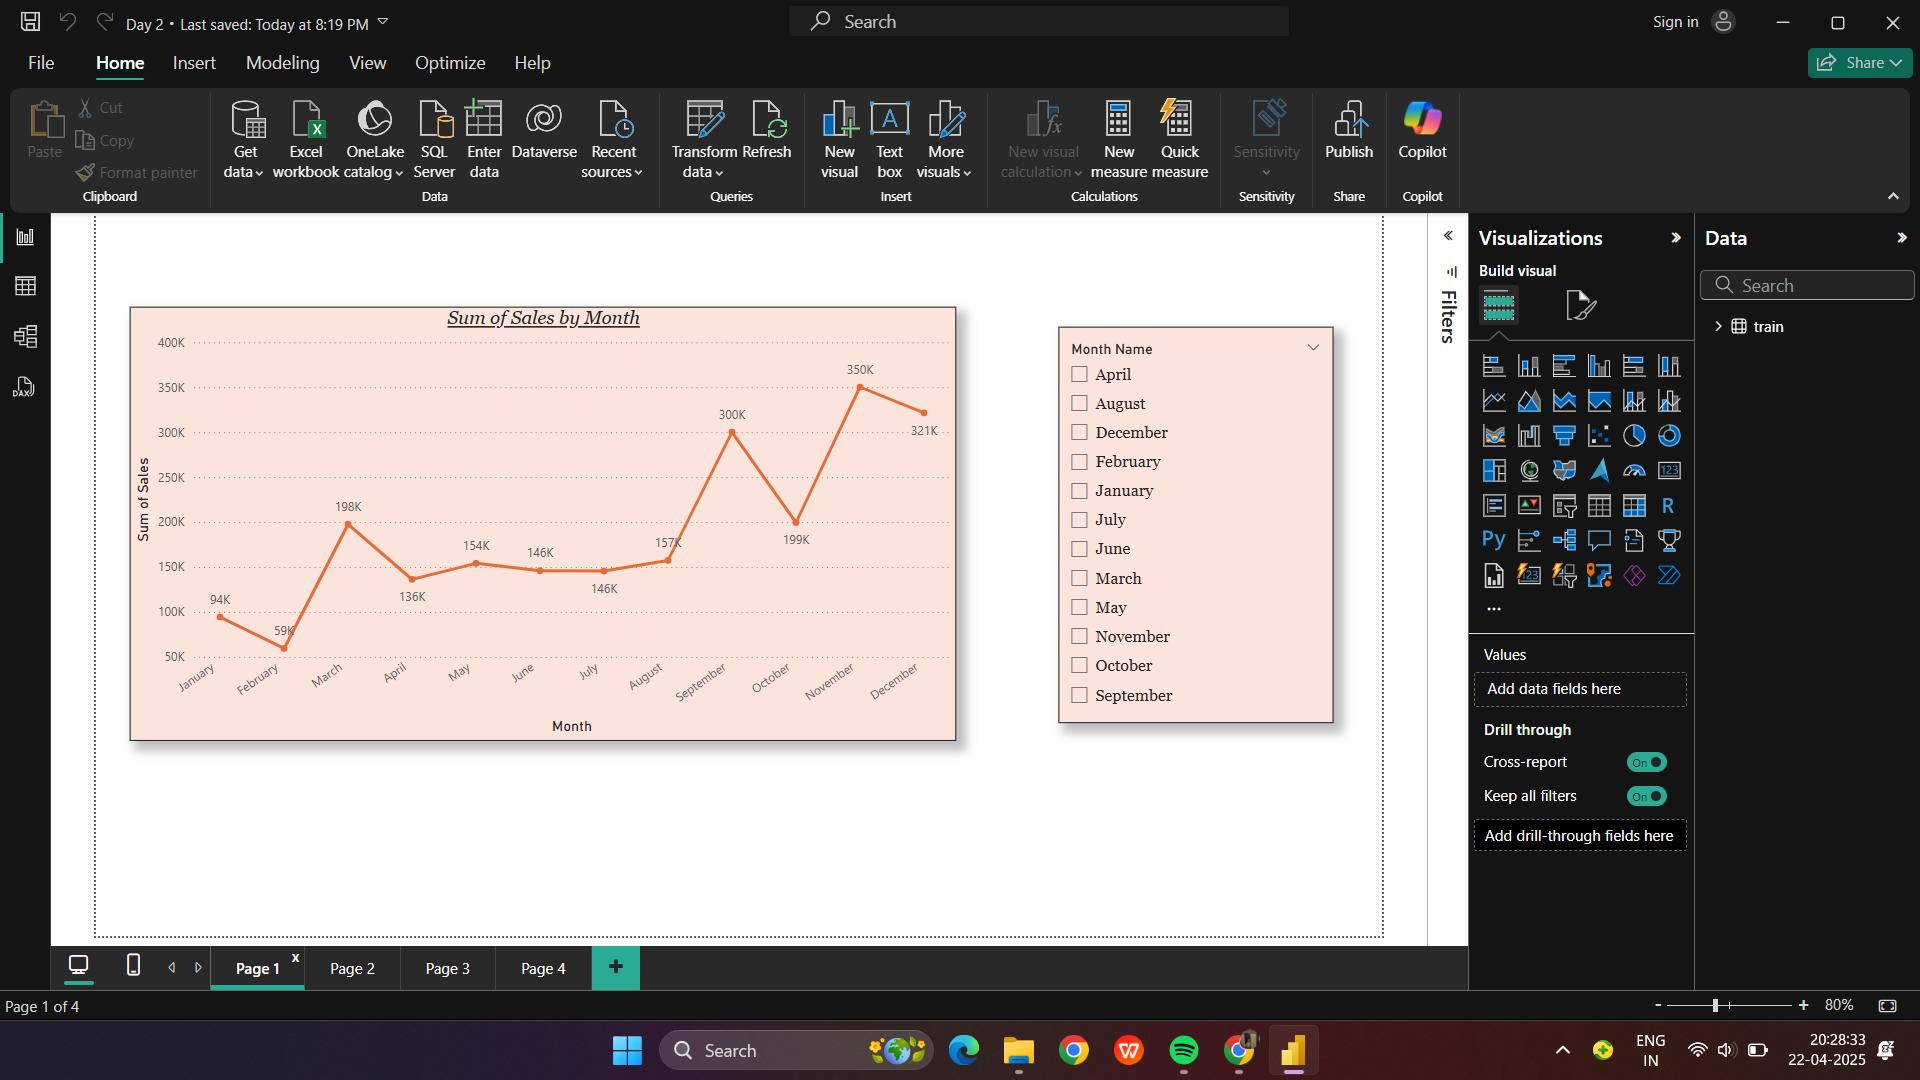

Layout of this report page (visuals, bound fields, positions):
{"tool":"powerbi","page":{"name":"Page 1","canvas":[1280,720],"ordinal":0},"visuals":[{"type":"lineChart","fields":{"Category":["train.Order Date.Variation.Date Hierarchy.Month"],"Y":["Sum(train.Sales)"]},"box":[33.6,93.3,822.3,431.7],"z":0},{"type":"slicer","fields":{"Values":["train.Month Name"]},"box":[957.8,113.2,273.7,394.3],"z":1000}]}

Visuals, with their boxes on the page's 1280x720 design canvas (x1, y1, x2, y2). These are canvas units, not pixel positions in the 1920x1080 screenshot, which may show the page scaled, cropped or inside an application window:
lineChart - train.Order Date.Variation.Date Hierarchy.Month x Sum(train.Sales): bbox=[34, 93, 856, 525]
slicer - train.Month Name: bbox=[958, 113, 1232, 508]
